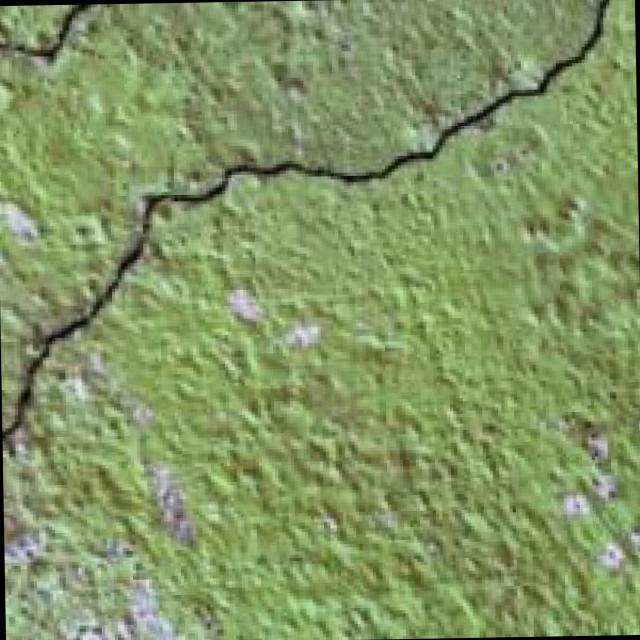crack: (0, 0, 617, 495)
